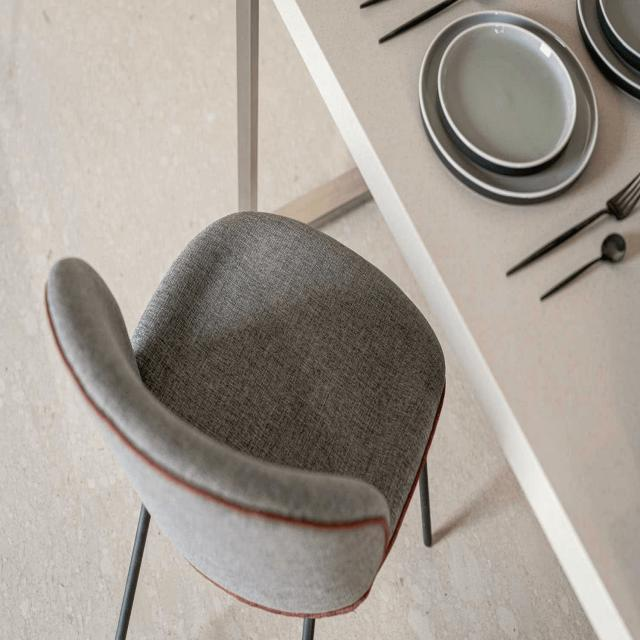chair: (41, 207, 450, 640)
